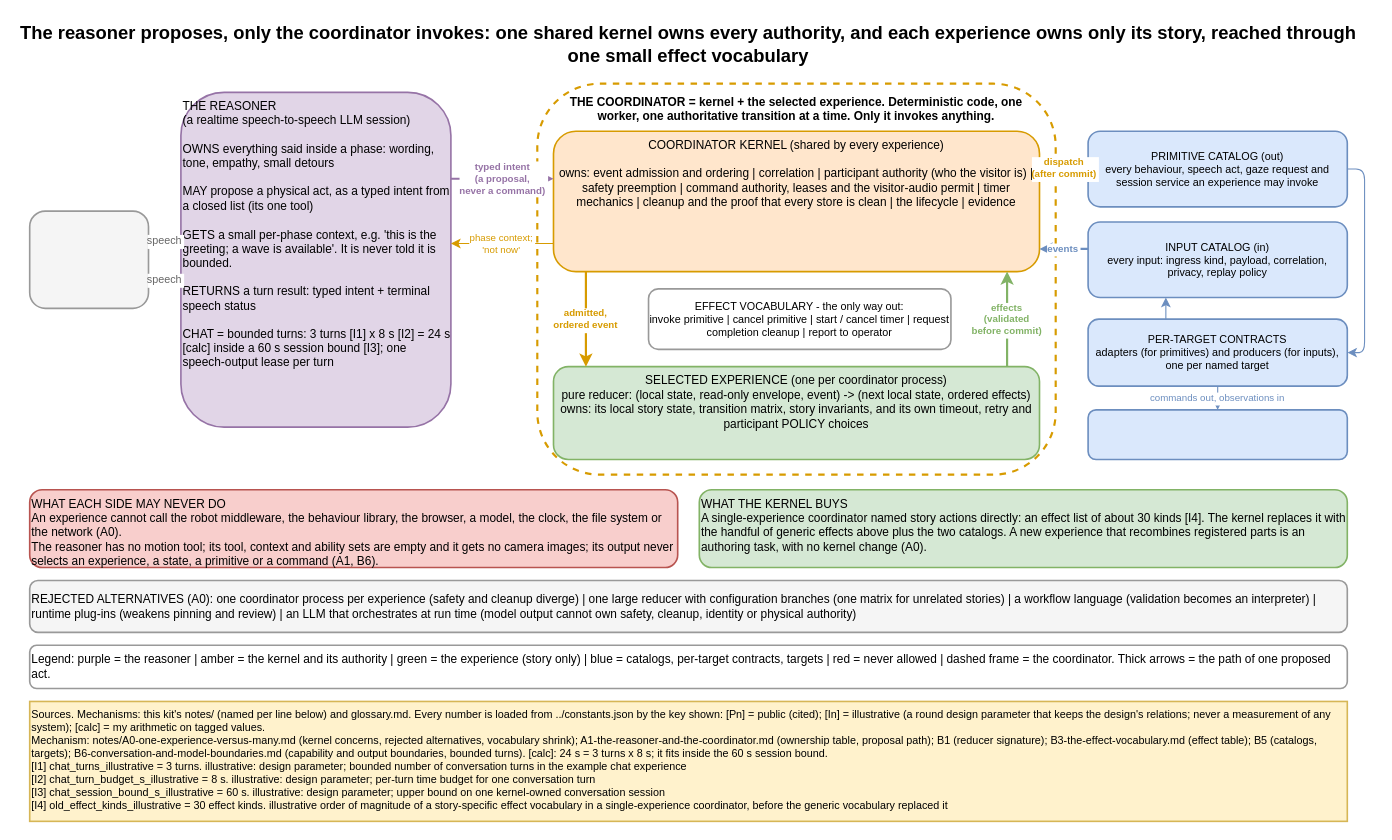
Image size: 1392x840. Some labels were removed from this diagram. The centre of each missing label's shape, as x and y in pixels:
TARGETS simulation | physical robot: point (1217, 434)
VISITOR at a public demo stand: point (88, 259)
